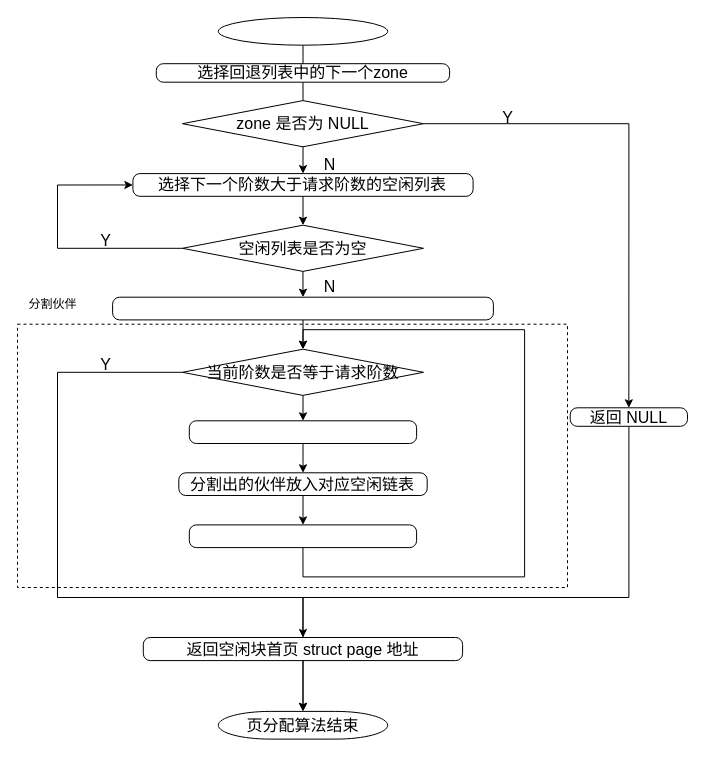
The diagram is 705 pixels wide and 757 high, and some of its shapes have lost their labels. Here are the shapes that lost their labels. From the top down, the centre of each, then its label:
At (x=302, y=30): "页分配算法开始".
At (x=302, y=308): "将第一个空闲块移动到请求请求阶数的空闲链表".
At (x=302, y=432): "分割空闲块".
At (x=302, y=536): "递减当前阶数".
